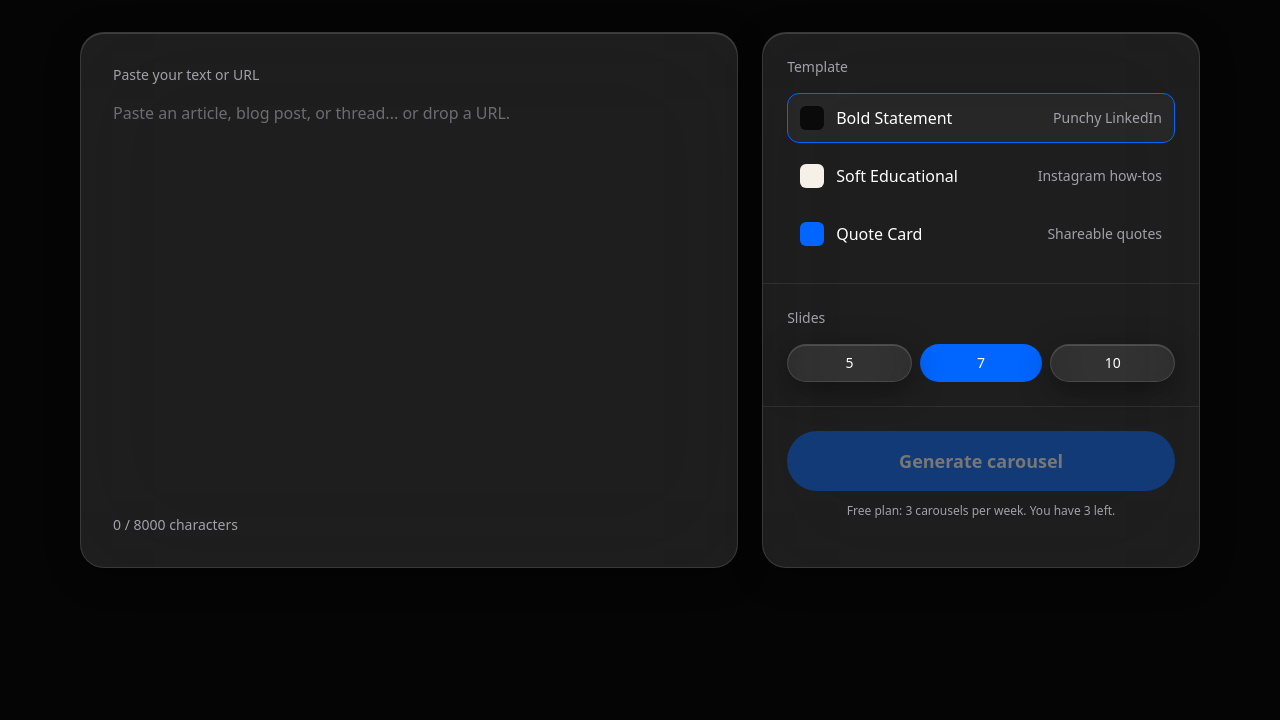
Test: Creator — /app UI wiring › counter updates live as you type
Expected: the text "0 / 8000 characters" is shown, top-left (113, 515), bottom-right (238, 535)
Type "Hello" into the text box with placeholder "Paste an article, blog post, or thread... or drop a URL." at (409, 301), box top-left (113, 101), bottom-right (705, 501)
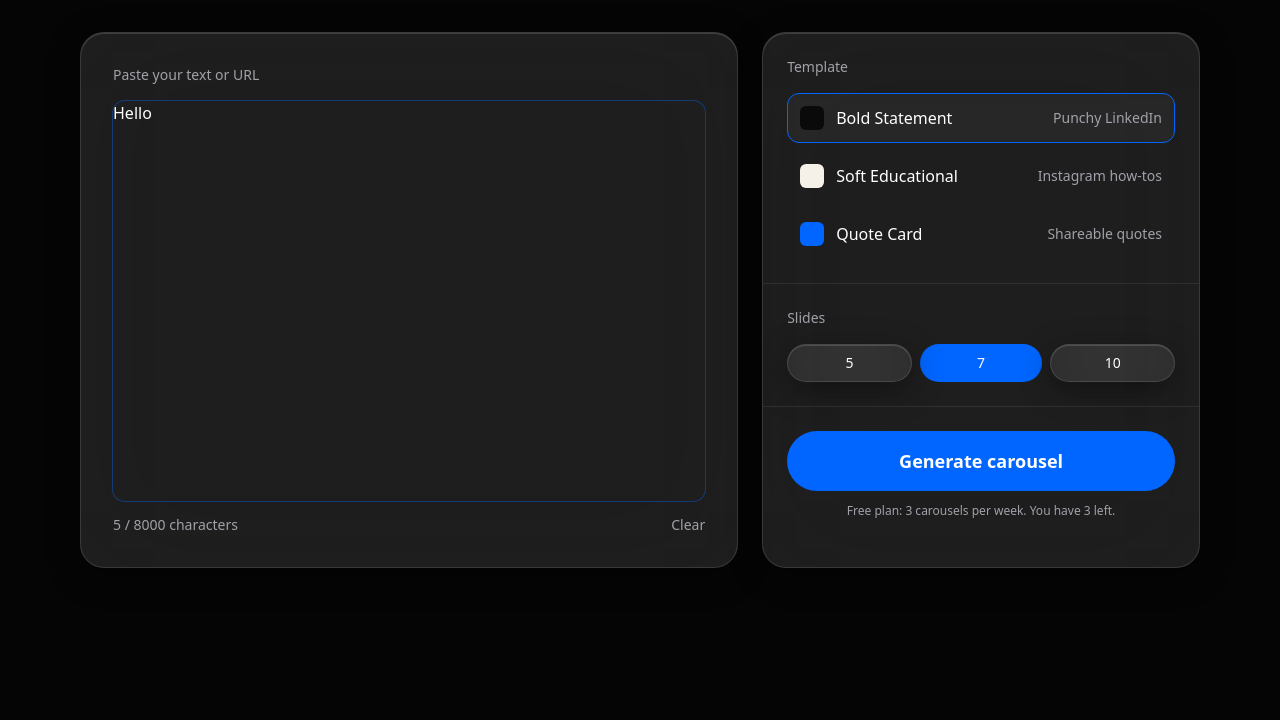
Now the text "5 / 8000 characters" is shown, box top-left (113, 515), bottom-right (238, 535)
